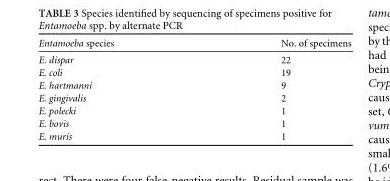table: (37, 37, 350, 141)
table column: (37, 37, 196, 141), (196, 37, 350, 141)
table column header: (37, 37, 350, 50)
table row: (37, 50, 350, 65), (37, 37, 350, 50), (37, 65, 350, 78), (37, 78, 350, 91), (37, 103, 350, 116), (37, 116, 350, 129), (37, 91, 350, 103), (37, 129, 350, 141)
